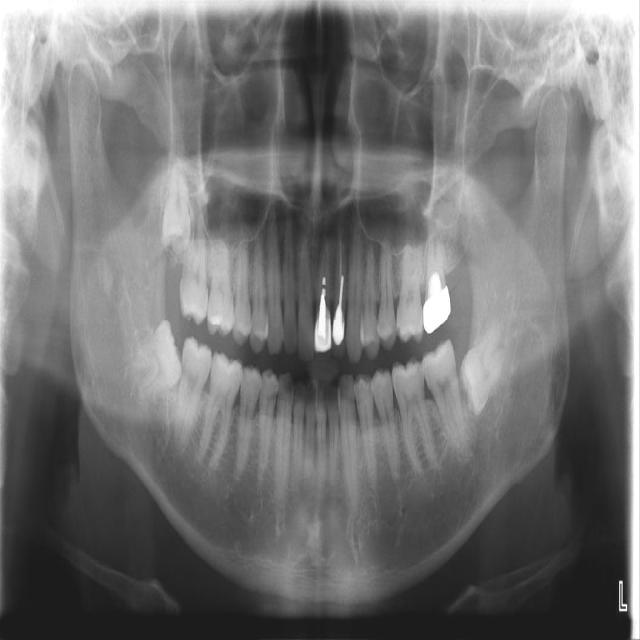Crown: (424, 286, 449, 332), (312, 312, 329, 351)
Filling: (331, 308, 346, 345), (208, 310, 223, 328)
Root Canal Treatment: (341, 235, 344, 278)
impacted tooth: (123, 321, 181, 403), (461, 314, 506, 413), (161, 149, 189, 246)
